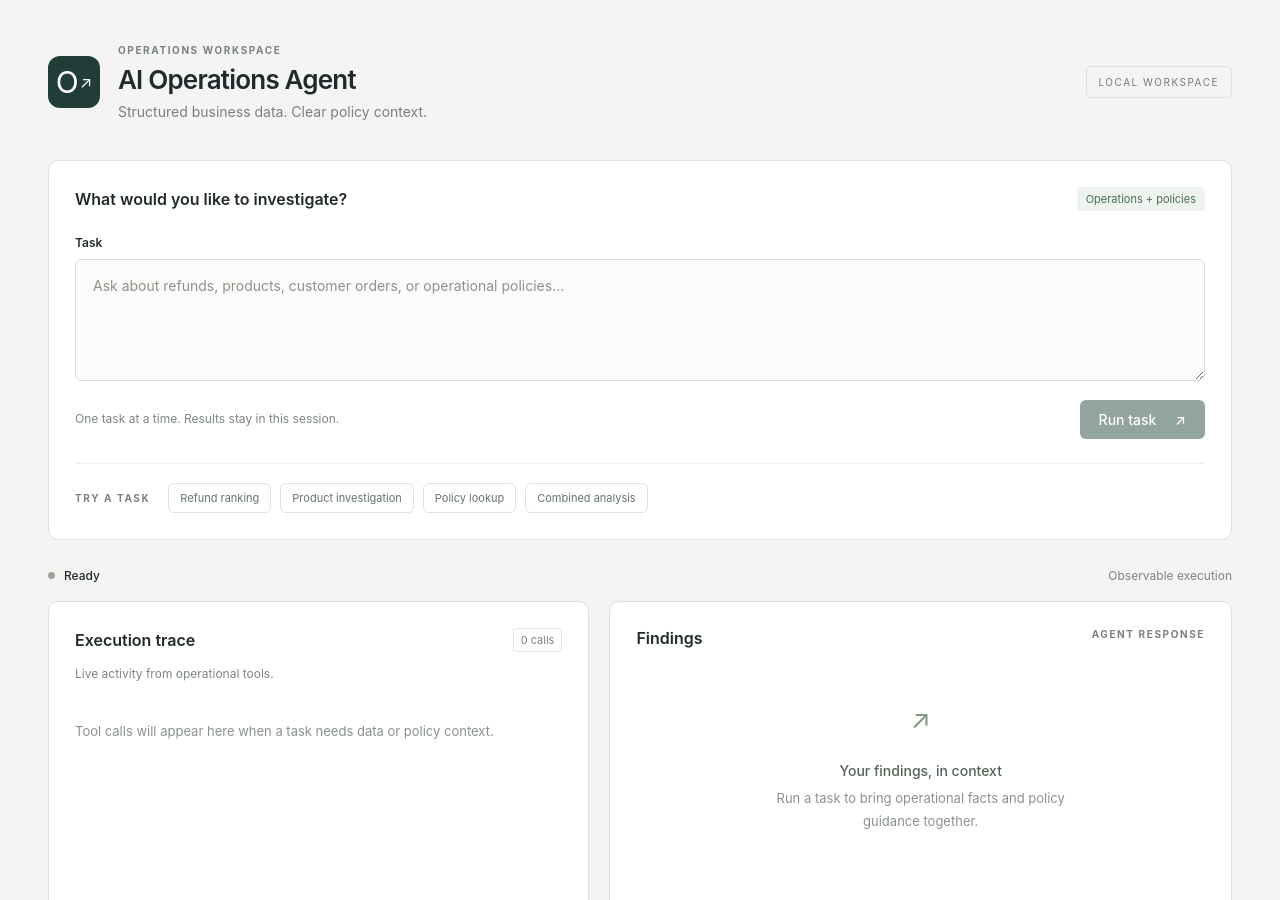
shows backend errors and clears the previous run
Replace the text in the text box labelled "Task" with "Investigate refunds". click: x=640, y=320
box: [75,259,1205,381]
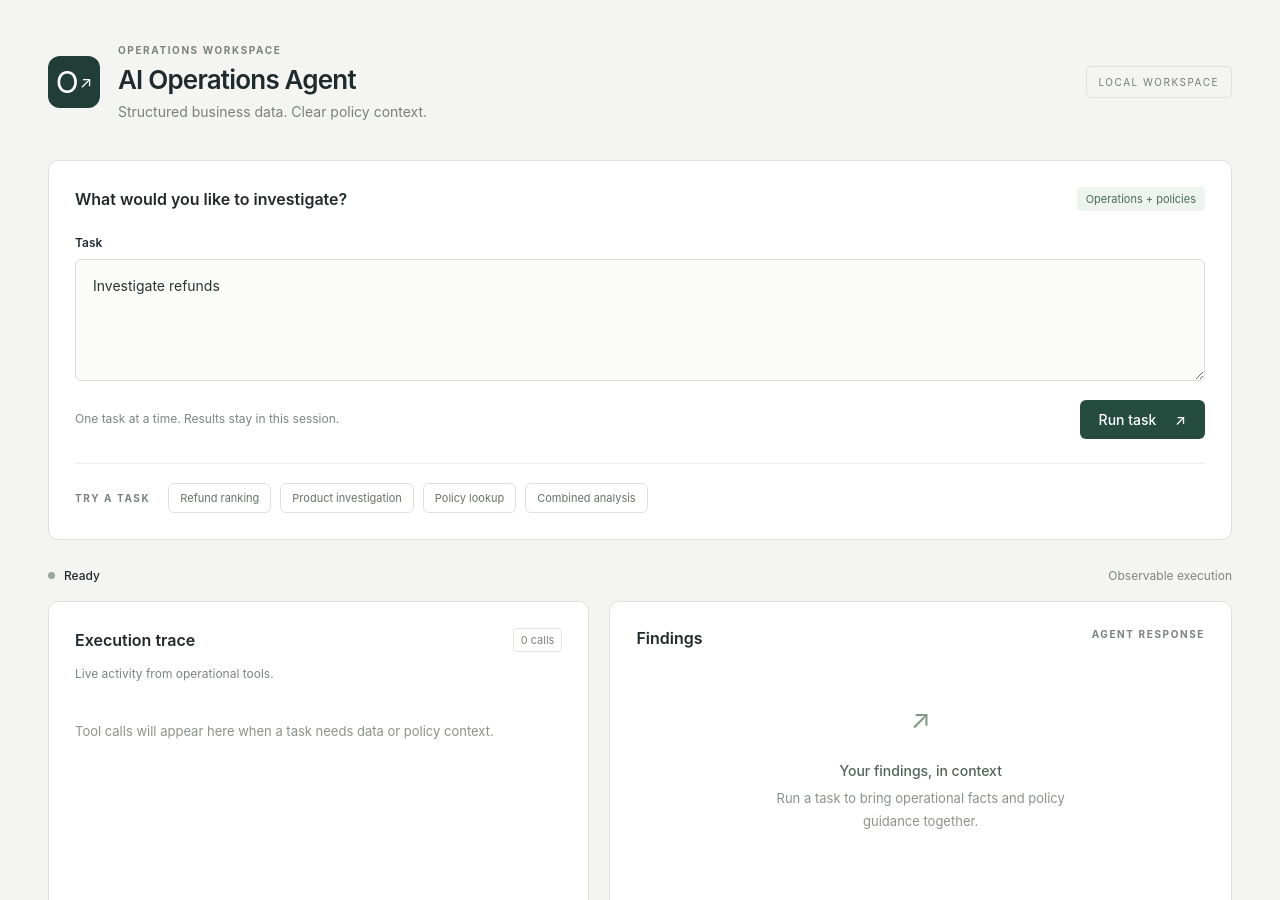
Click the button "Run task ↗". click: x=1142, y=419
box: [1080,400,1205,439]
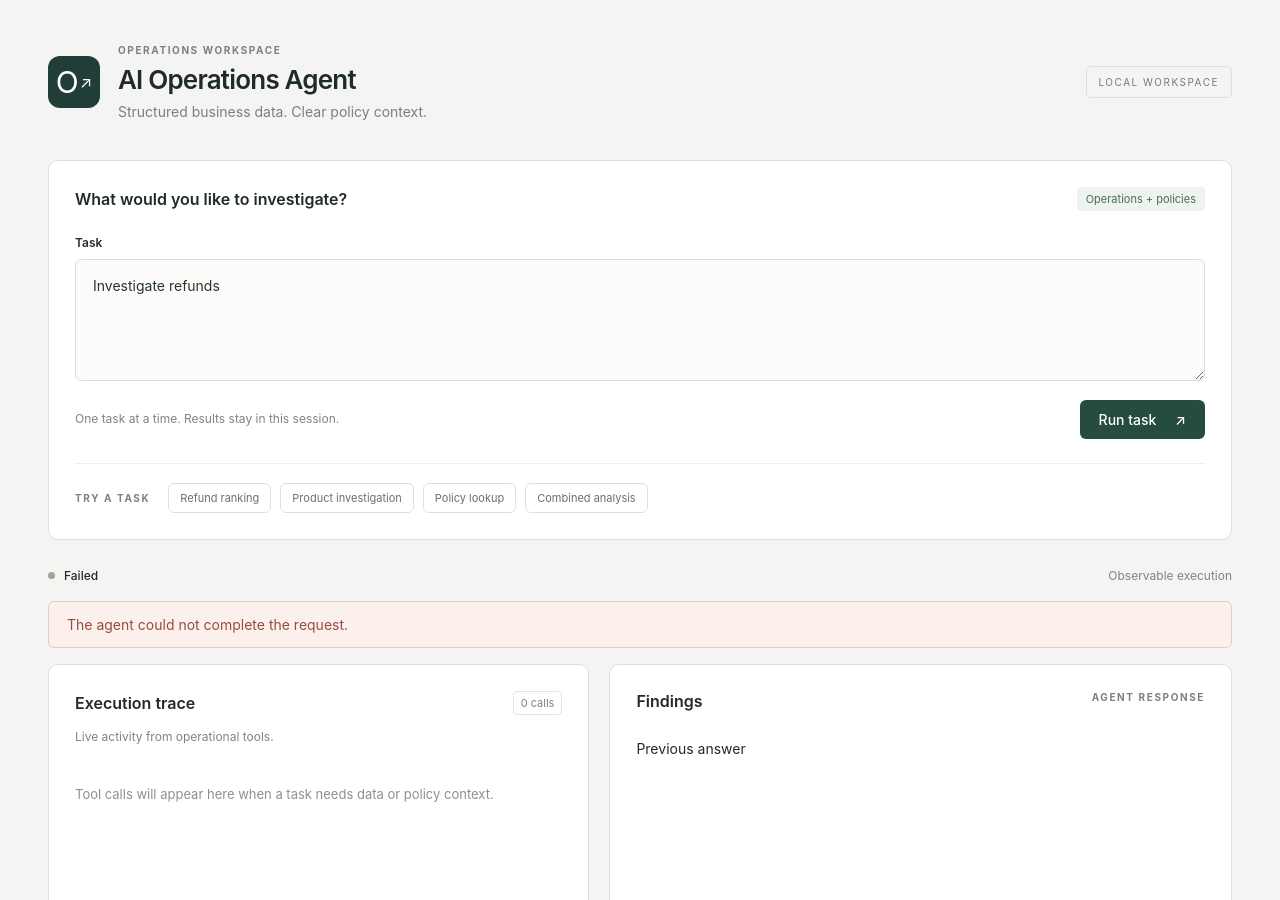
Expected: the text "Stop run" is not shown
Result: the message "The agent could not complete the request." is shown at [48,601,1232,648]
Replace the text in the text box labelled "Task" with "Second task". click: x=640, y=320
box: [75,259,1205,381]
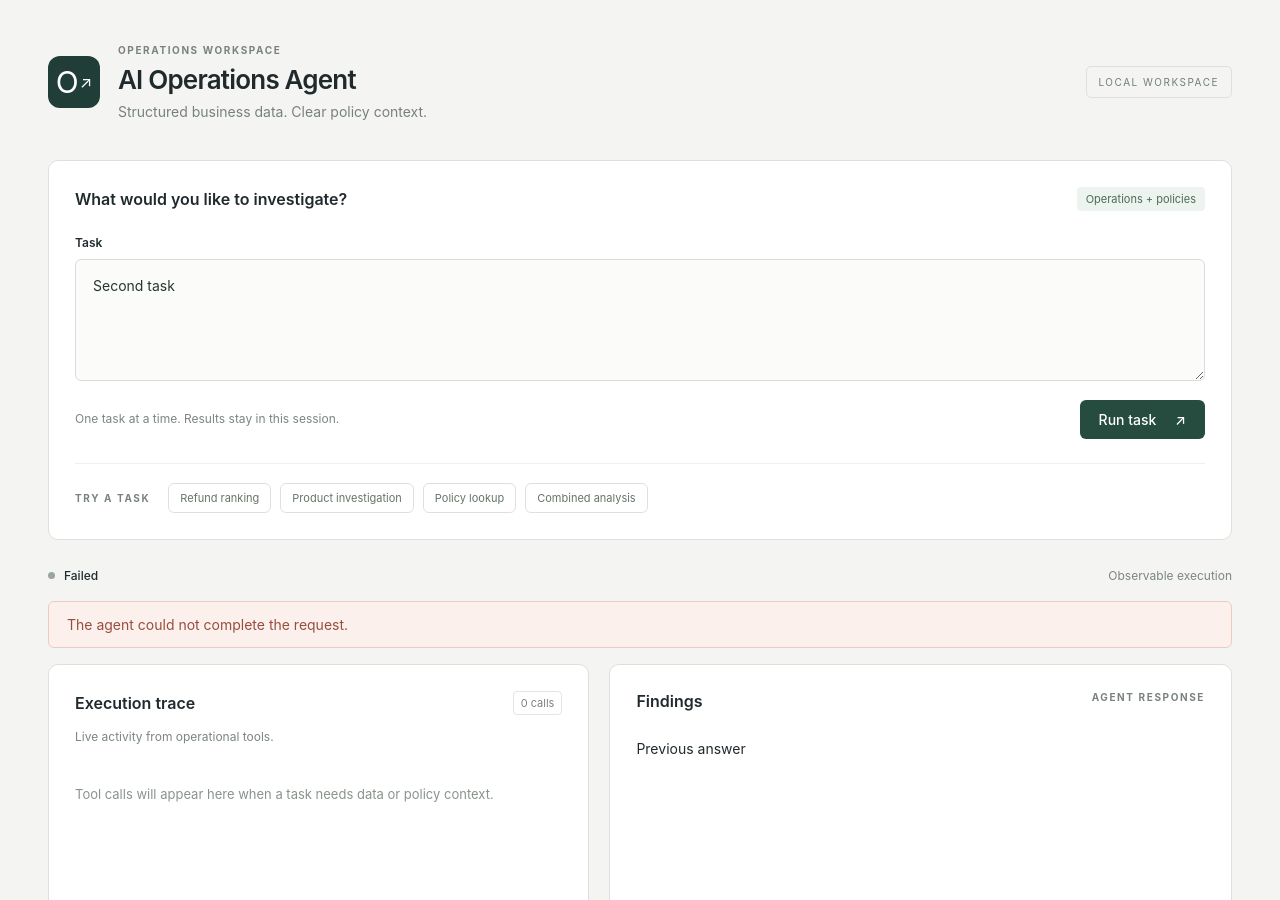
Click the button "Run task ↗". click: x=1142, y=419
box: [1080,400,1205,439]
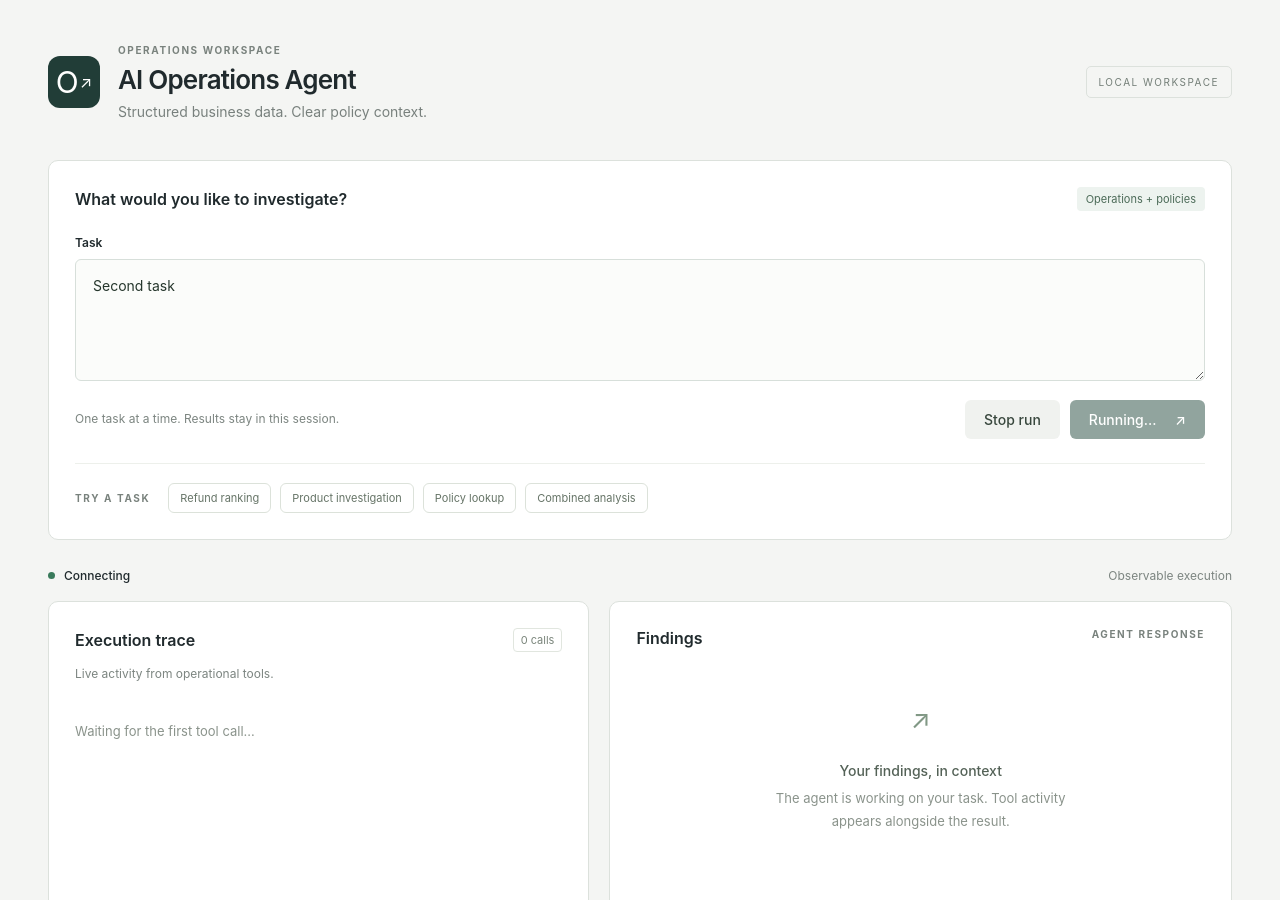
Result: the text "Previous answer" is gone
Result: the message "The agent could not complete the request." is gone
